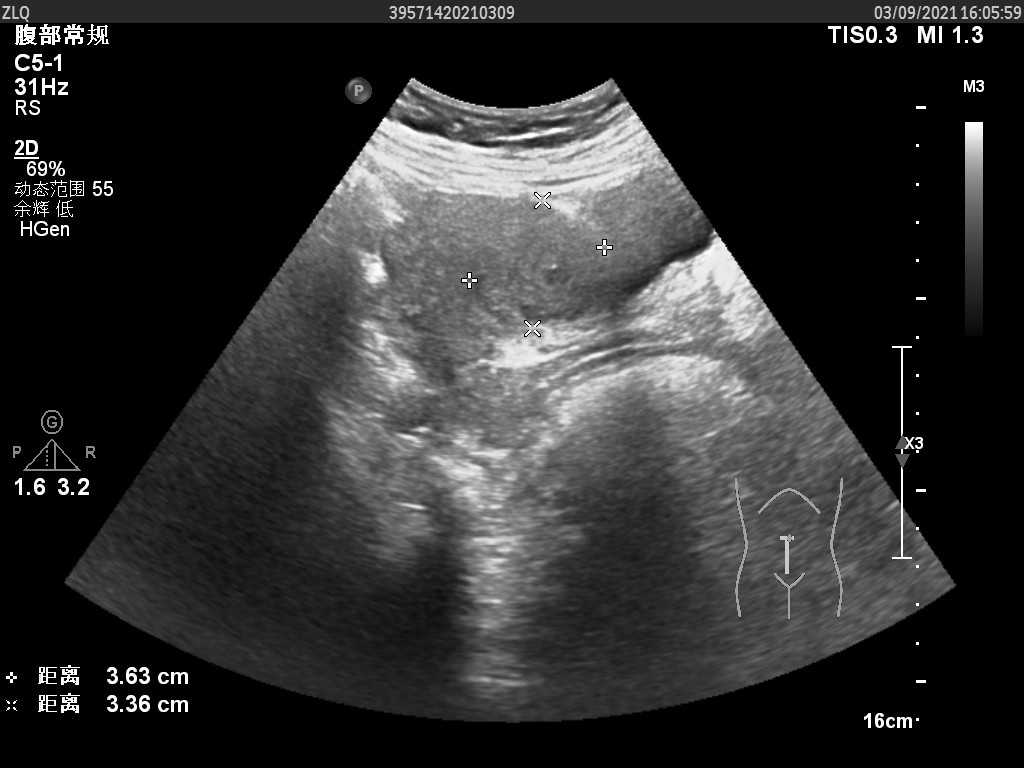肌瘤: (468, 200, 608, 331)
